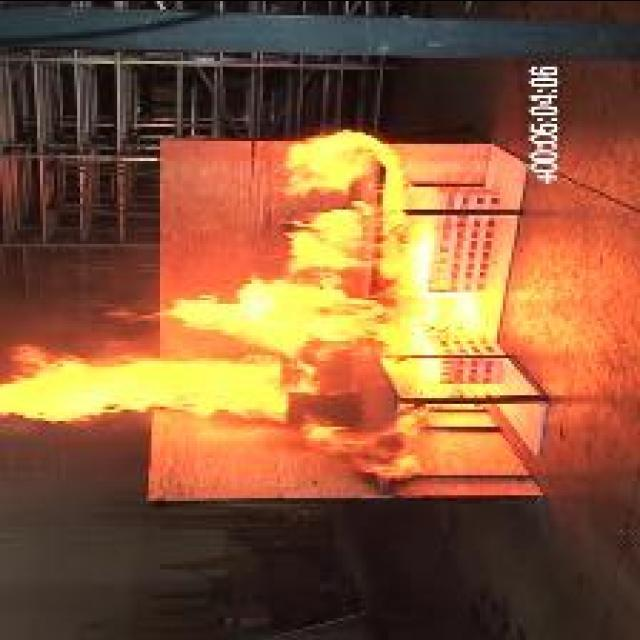Fire: (108, 128, 482, 482), (0, 346, 314, 426)
